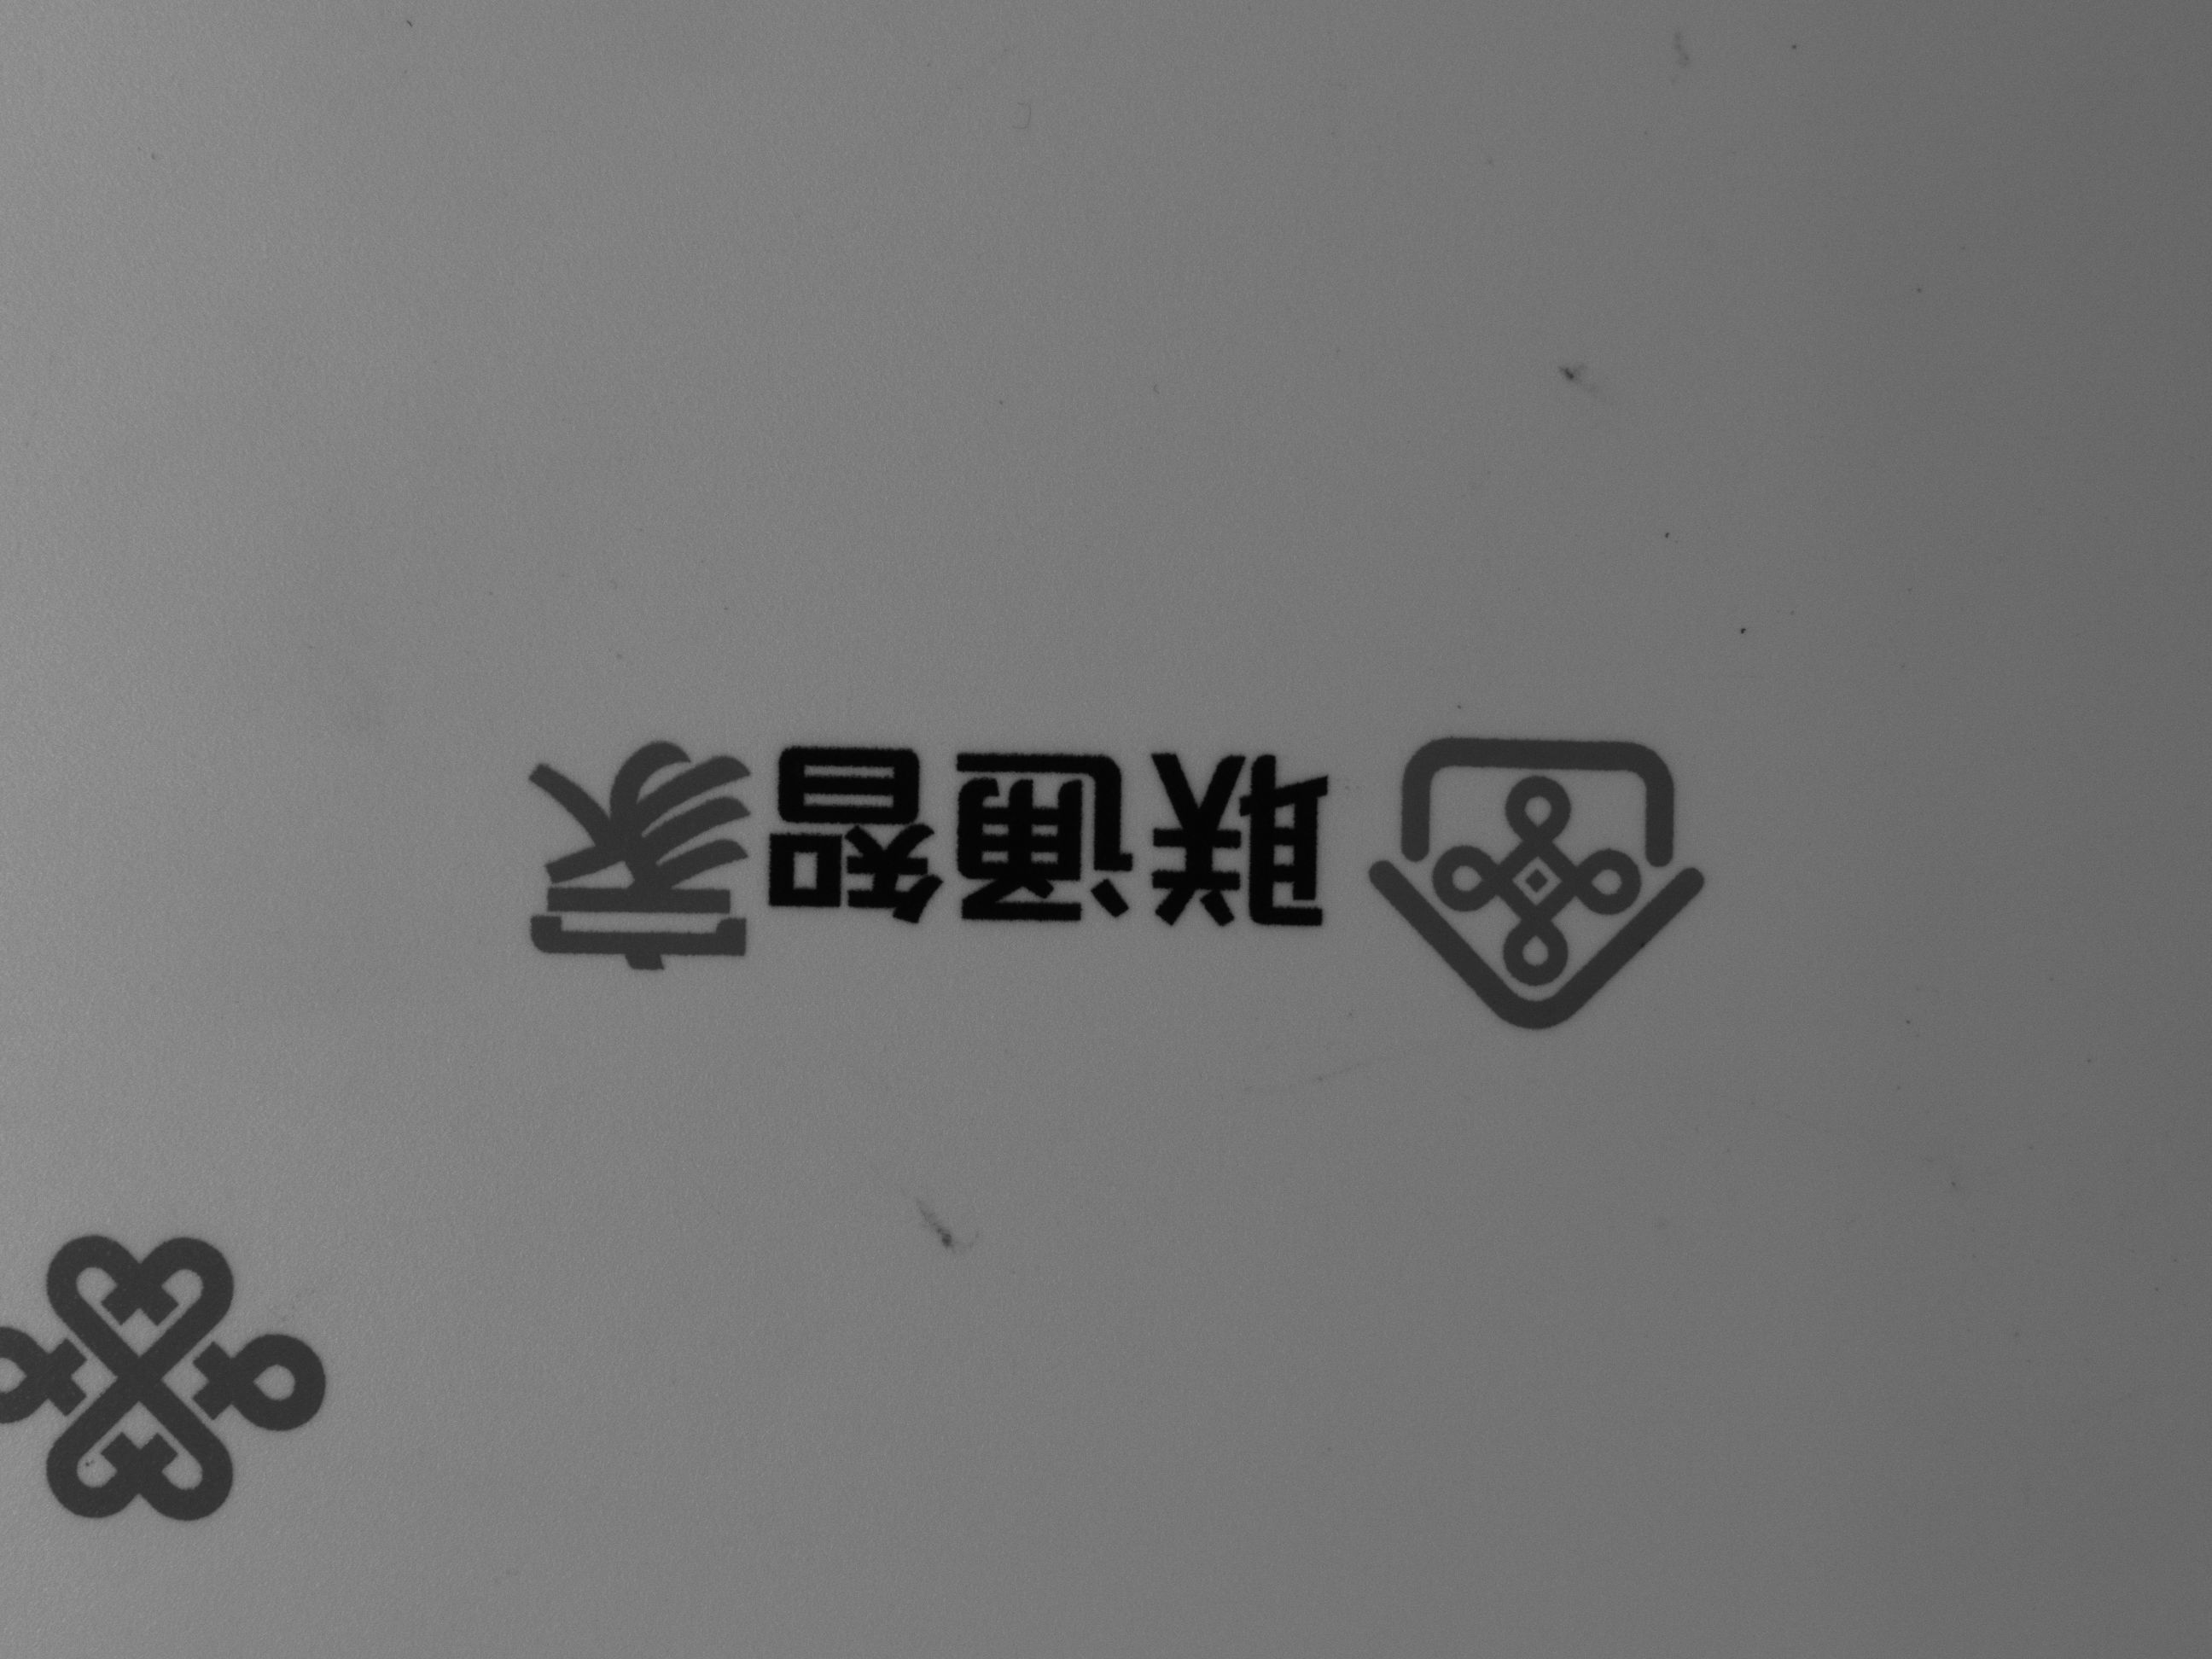BY_F6610Unicome: (446, 641, 1738, 1037)
